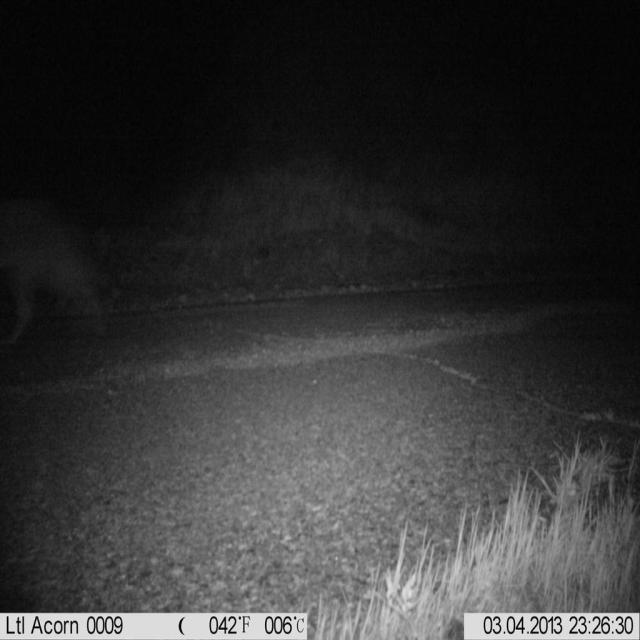coyote: (2, 190, 119, 354)
